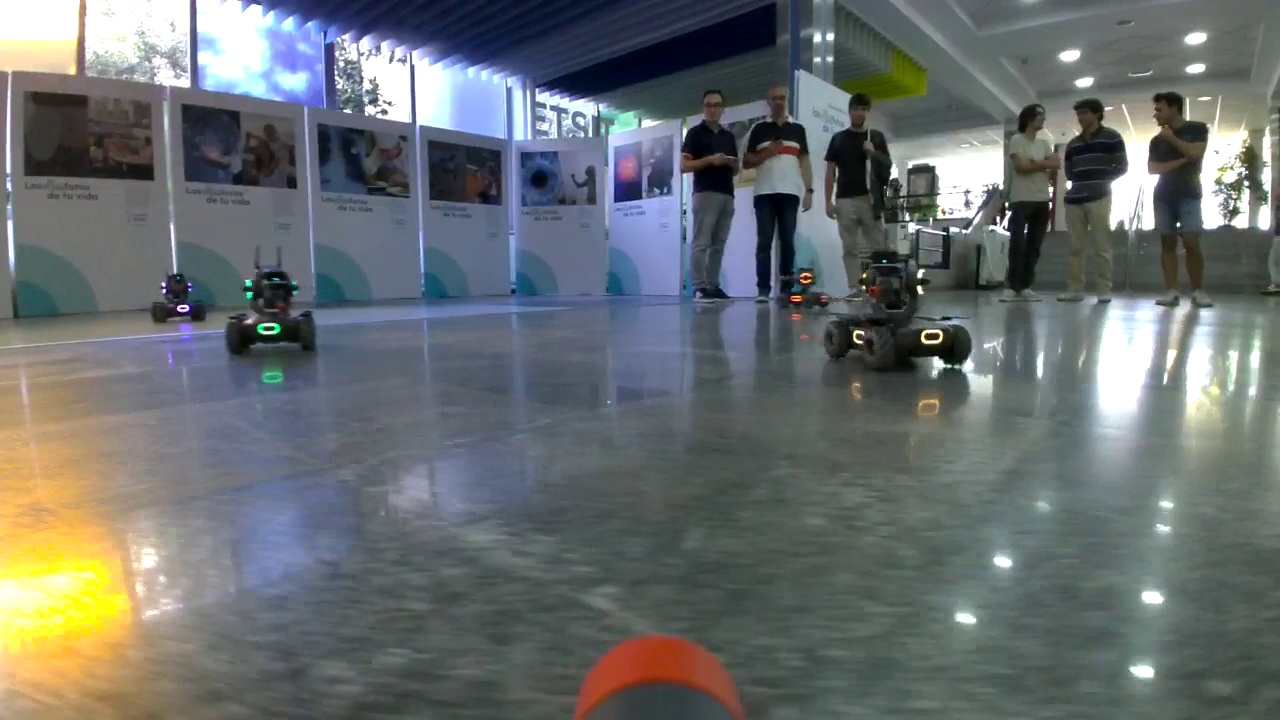robot: (830, 253, 973, 370), (229, 244, 316, 357), (154, 274, 206, 327), (780, 267, 831, 308)
